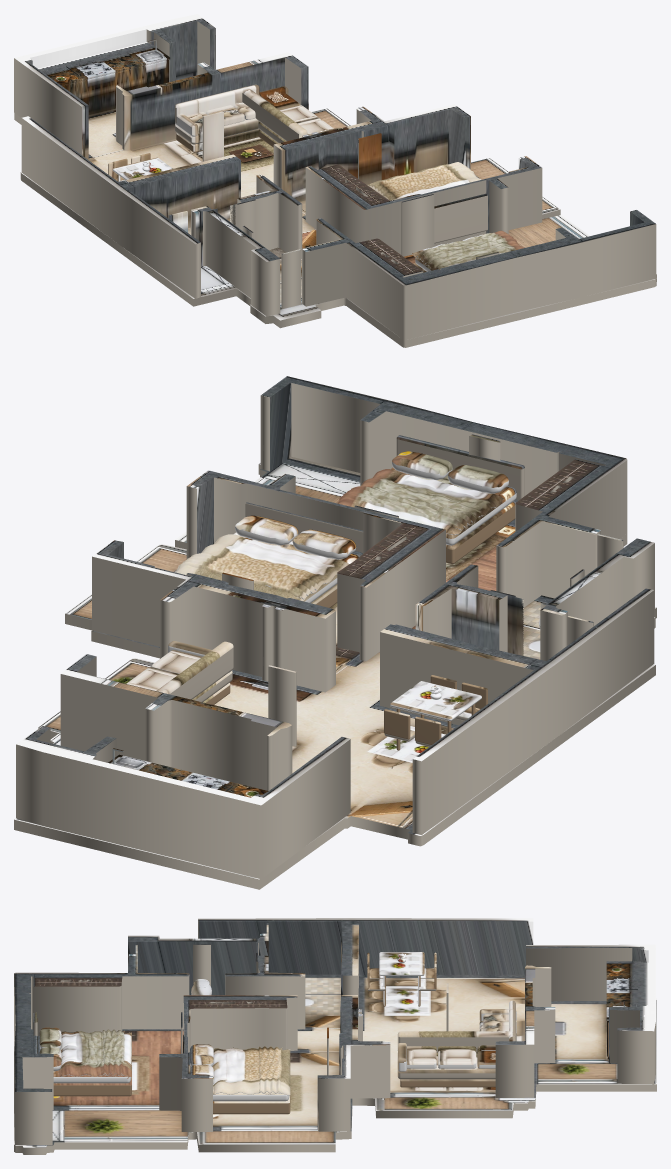
Rendered from p4-10-u09-0112-image-model.glb.
3 renders of one model, top to bottom at view 1: azimuth 30°, elevation 25°; view 2: azimuth 150°, elevation 25°; view 3: azimuth 270°, elevation 25°, orthographic. The views are drawn at different scales.
Visible parts, largest first — view 1: Partition walls, Apartment floor, Kitchen cabinets, Upholstered headboard, Stone worktop, Sofa back, Draped bed linen.001, Draped bed linen, Draped bed linen.002, Draped bed linen.003, Sofa back.001, Marble dining top (+2 smaller); view 2: Partition walls, Apartment floor, Draped bed linen, Draped bed linen.002, Upholstered headboard.001, Draped bed linen.001, Sofa back, Marble dining top, Draped bed linen.003, Upholstered headboard, Walnut upholstered base.001, Tailored pillow (+6 smaller); view 3: Partition walls, Apartment floor, Draped bed linen, Draped bed linen.002, Sofa back, Stone worktop, Upholstered sofa frame, Walnut upholstered base.001, Walnut upholstered base, Draped bed linen.001, Marble dining top, Draped bed linen.003 (+8 smaller).
Part boxes in pixels (<box>): Partition walls: <box>14,14,656,340</box>; Apartment floor: <box>14,108,656,347</box>; Kitchen cabinets: <box>62,60,168,116</box>; Upholstered headboard: <box>434,193,487,243</box>; Stone worktop: <box>38,42,170,85</box>; Sofa back: <box>242,86,307,141</box>; Draped bed linen.001: <box>369,162,474,195</box>; Draped bed linen: <box>367,163,481,200</box>; Draped bed linen.002: <box>411,234,524,270</box>; Draped bed linen.003: <box>415,230,516,263</box>; Sofa back.001: <box>175,84,259,123</box>; Marble dining top: <box>112,157,172,179</box>; Partition walls: <box>16,376,654,879</box>; Apartment floor: <box>14,457,656,889</box>; Draped bed linen: <box>175,534,349,600</box>; Draped bed linen.002: <box>337,469,503,535</box>; Upholstered headboard.001: <box>396,435,524,500</box>; Draped bed linen.001: <box>177,553,318,599</box>; Sofa back: <box>156,641,233,699</box>; Marble dining top: <box>390,681,481,721</box>; Draped bed linen.003: <box>338,486,474,530</box>; Upholstered headboard: <box>245,502,363,553</box>; Walnut upholstered base.001: <box>446,499,517,564</box>; Tailored pillow: <box>292,529,356,559</box>; Partition walls: <box>14,918,655,1144</box>; Apartment floor: <box>14,974,656,1154</box>; Draped bed linen: <box>213,1047,290,1095</box>; Draped bed linen.002: <box>60,1031,131,1077</box>; Sofa back: <box>397,1031,516,1052</box>; Stone worktop: <box>606,961,648,1020</box>; Upholstered sofa frame: <box>397,1052,495,1079</box>; Walnut upholstered base.001: <box>53,1077,131,1096</box>; Walnut upholstered base: <box>213,1095,290,1114</box>; Draped bed linen.001: <box>258,1046,282,1093</box>; Marble dining top: <box>379,952,424,975</box>; Draped bed linen.003: <box>102,1029,124,1075</box>.
Size of the model in its own units: 8.14 by 1.3 by 12.53.
Materials: 13 (3 with a texture image).
